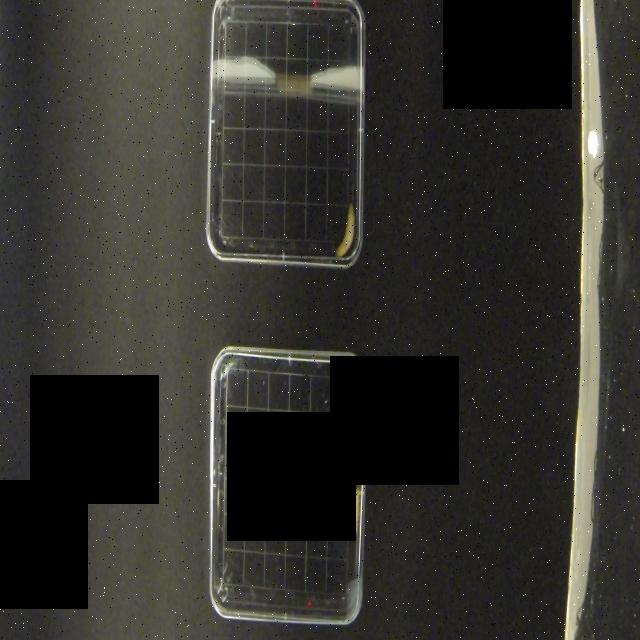larva: (334, 203, 357, 259), (350, 486, 360, 540)
